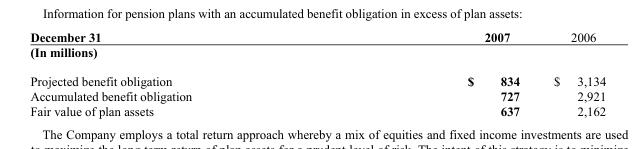table: (29, 29, 605, 117)
table column: (29, 29, 328, 117), (328, 29, 535, 117), (535, 29, 605, 117)
table column header: (29, 29, 605, 44)
table projected row header: (29, 44, 605, 66)
table row: (29, 44, 605, 66), (29, 66, 605, 88), (29, 29, 605, 44), (29, 88, 605, 103), (29, 103, 605, 117)
